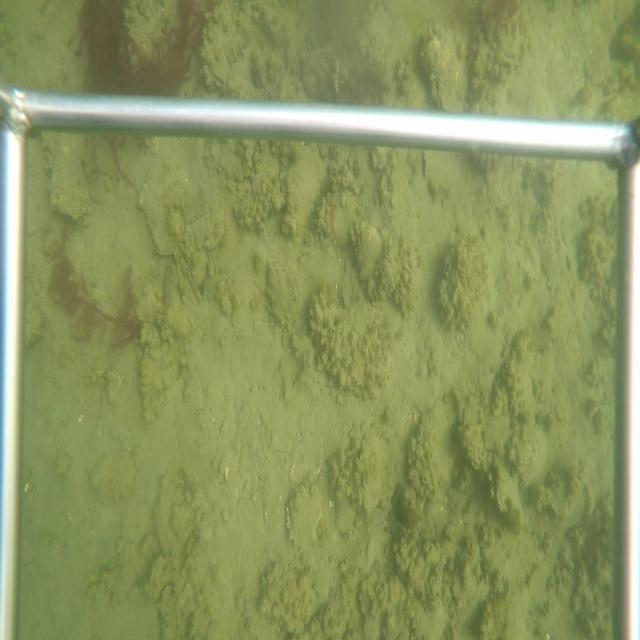Oyster-Closed: (421, 31, 467, 109), (86, 450, 138, 511), (178, 257, 205, 307)
Oyster-Indeterminate: (284, 144, 330, 232), (50, 140, 93, 225), (281, 482, 324, 552), (354, 219, 384, 287)
